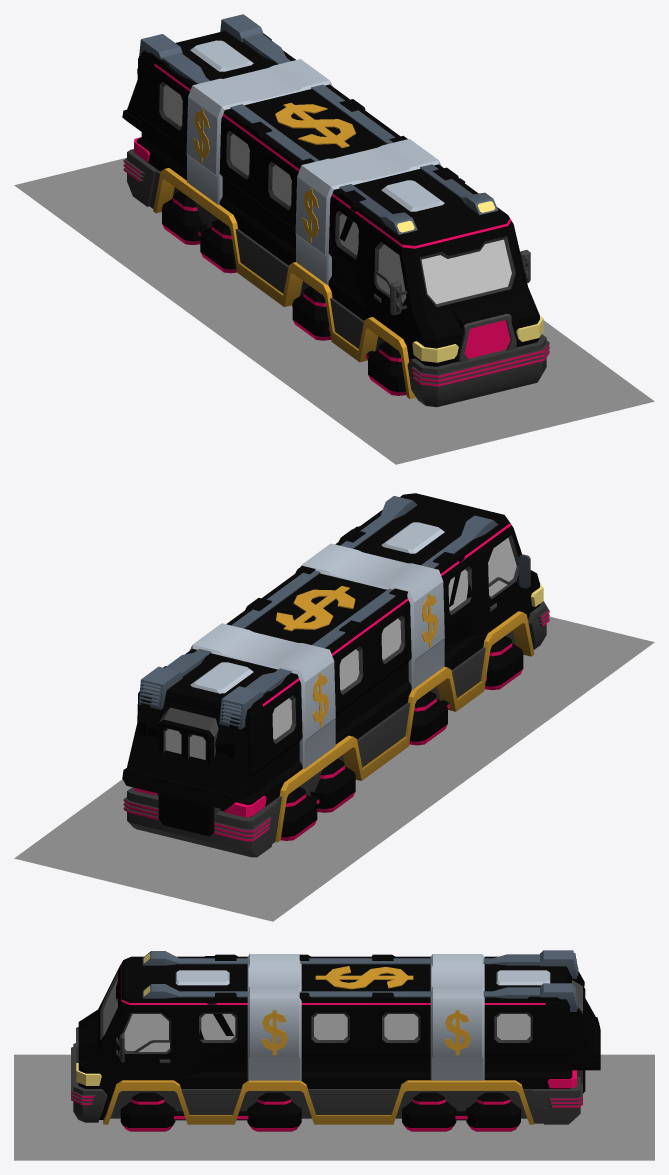
File: Vehiculo_Alto_Doble.FBX
3 views of the same model, one above another, from view 1: azimuth 30°, elevation 25°; view 2: azimuth 150°, elevation 25°; view 3: azimuth 270°, elevation 25° (orthographic). The views are drawn at different scales.
Parts seen in each view (by area): view 1: Vehiculo_Alto_Doble, Vehiculo_Alto_Doble_2, Vehicle_Engine_Glow_Doble; view 2: Vehiculo_Alto_Doble, Vehicle_Engine_Glow_Doble, Vehiculo_Alto_Doble_2; view 3: Vehiculo_Alto_Doble, Vehiculo_Alto_Doble_2, Vehicle_Engine_Glow_Doble.
Boxes of the visible parts, box(x1,y1,x2,y2) form: Vehiculo_Alto_Doble: box(124, 14, 549, 406); Vehiculo_Alto_Doble_2: box(122, 33, 548, 407); Vehicle_Engine_Glow_Doble: box(14, 157, 654, 464); Vehiculo_Alto_Doble: box(124, 493, 549, 856); Vehicle_Engine_Glow_Doble: box(14, 616, 654, 921); Vehiculo_Alto_Doble_2: box(122, 493, 548, 857); Vehiculo_Alto_Doble: box(71, 950, 585, 1130); Vehiculo_Alto_Doble_2: box(71, 951, 600, 1131); Vehicle_Engine_Glow_Doble: box(14, 1054, 654, 1160).
Size of what is drawn, in the model's own units: 520 by 1328 by 312.
